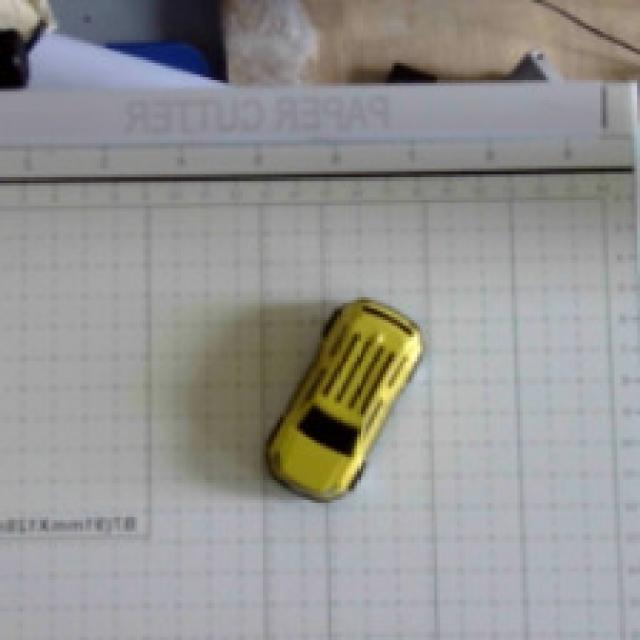Yellow Car: (214, 260, 467, 549)
